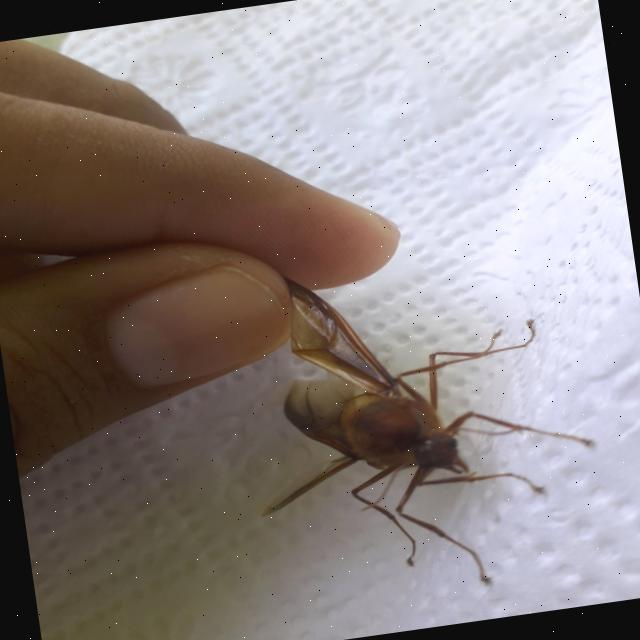Alive-Male-Alate: (227, 233, 613, 616)
